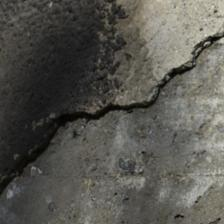Crack: (76, 53, 161, 134), (15, 83, 109, 139)
